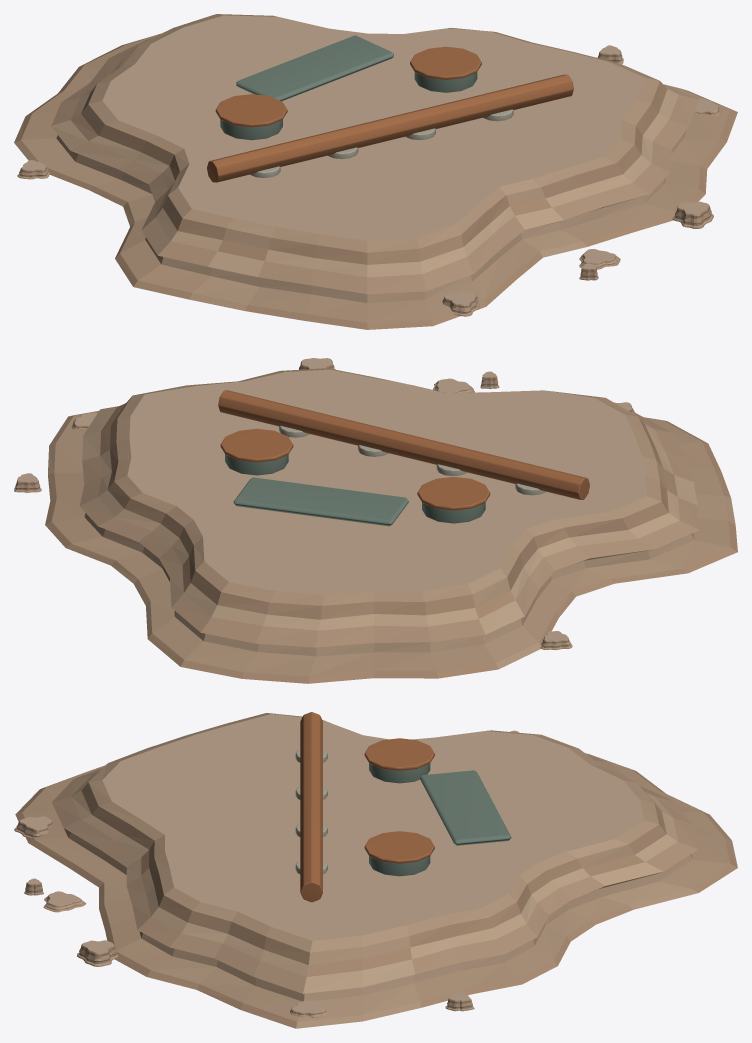
The model's file is SandstoneShelfD.glb.
3 renders of one model, top to bottom at view 1: azimuth 30°, elevation 25°; view 2: azimuth 150°, elevation 25°; view 3: azimuth 270°, elevation 25°, orthographic. The views are drawn at different scales.
Visible parts, largest first — view 1: Abandoned utility bench, Old utility pipe, Collapsed maintenance cover, Rusted valve cap, Rusted valve cap.001, Detached sandstone fragment.035, Buried valve base.001, Buried valve base, Detached sandstone fragment.042, Detached sandstone fragment.041; view 2: Abandoned utility bench, Old utility pipe, Collapsed maintenance cover, Rusted valve cap, Rusted valve cap.001, Buried valve base, Buried valve base.001; view 3: Abandoned utility bench, Collapsed maintenance cover, Old utility pipe, Rusted valve cap.001, Rusted valve cap, Detached sandstone fragment.035, Buried valve base.001, Buried valve base, Detached sandstone fragment.042, Detached sandstone fragment.041.
Part boxes in pixels (bbox=[...]): Abandoned utility bench: bbox=[14, 14, 737, 329]; Old utility pipe: bbox=[207, 74, 573, 182]; Collapsed maintenance cover: bbox=[236, 35, 393, 101]; Rusted valve cap: bbox=[215, 94, 287, 127]; Rusted valve cap.001: bbox=[410, 46, 481, 79]; Detached sandstone fragment.035: bbox=[672, 201, 713, 228]; Buried valve base.001: bbox=[414, 72, 477, 92]; Buried valve base: bbox=[220, 119, 282, 140]; Detached sandstone fragment.042: bbox=[442, 291, 479, 316]; Detached sandstone fragment.041: bbox=[579, 249, 620, 269]; Abandoned utility bench: bbox=[45, 368, 737, 683]; Old utility pipe: bbox=[218, 390, 589, 499]; Collapsed maintenance cover: bbox=[233, 477, 408, 526]; Rusted valve cap: bbox=[417, 477, 490, 510]; Rusted valve cap.001: bbox=[220, 428, 293, 462]; Buried valve base: bbox=[422, 502, 485, 523]; Buried valve base.001: bbox=[225, 454, 288, 475]; Abandoned utility bench: bbox=[15, 713, 737, 1028]; Collapsed maintenance cover: bbox=[420, 770, 511, 845]; Old utility pipe: bbox=[300, 712, 322, 902]; Rusted valve cap.001: bbox=[364, 831, 434, 863]; Rusted valve cap: bbox=[364, 738, 434, 770]; Detached sandstone fragment.035: bbox=[77, 940, 118, 966]; Buried valve base.001: bbox=[369, 856, 430, 876]; Buried valve base: bbox=[369, 763, 430, 783]; Detached sandstone fragment.042: bbox=[14, 816, 53, 838]; Detached sandstone fragment.041: bbox=[43, 891, 86, 912].
Bounding box in the file's own units: 9.77 × 1.05 × 9.88.
